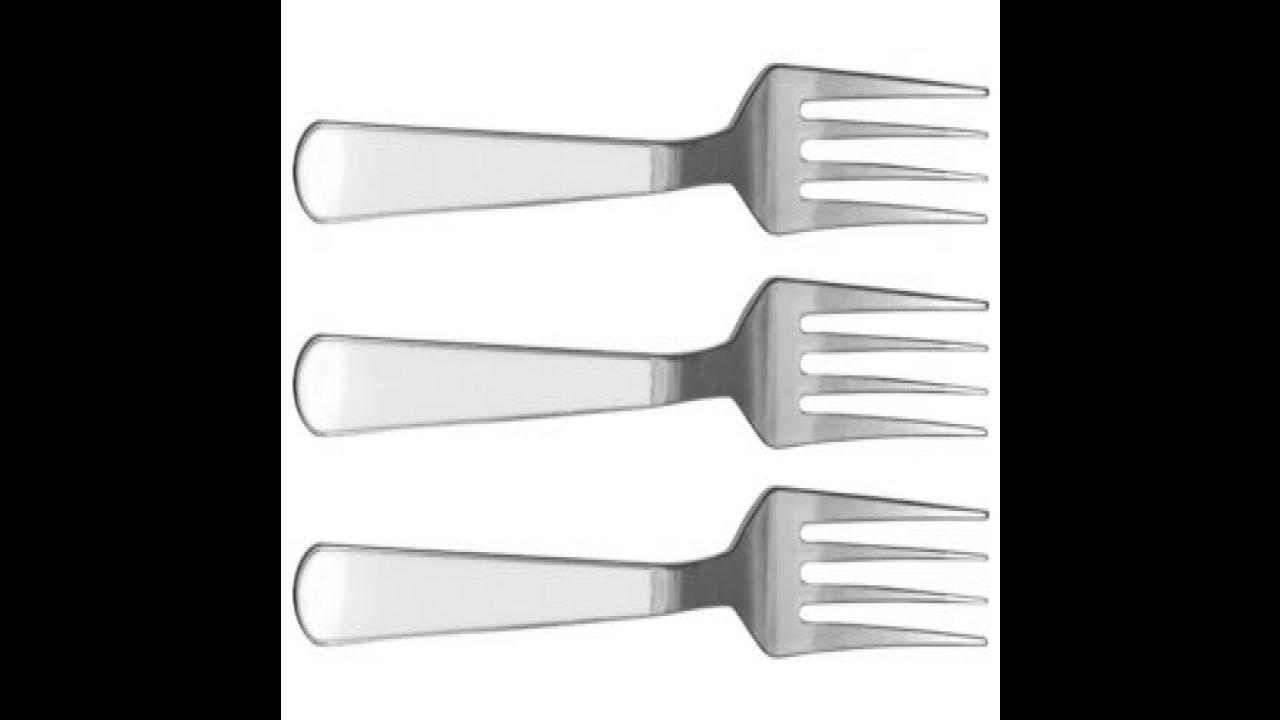fork: (293, 482, 990, 660), (293, 274, 990, 450), (293, 60, 990, 234)
